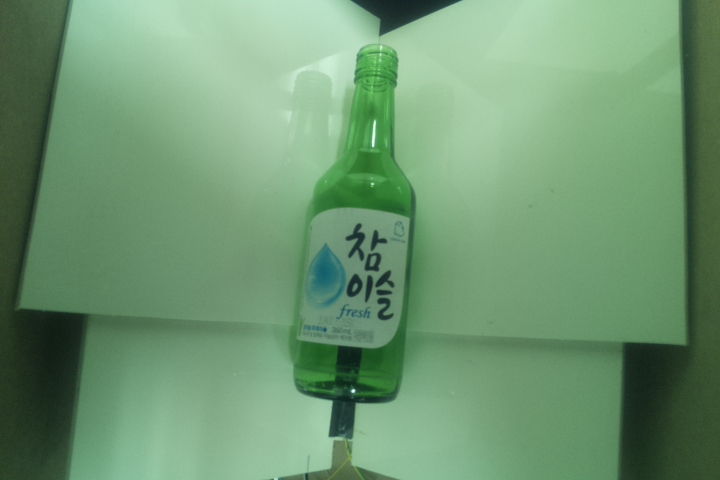soju: (291, 42, 416, 405)
